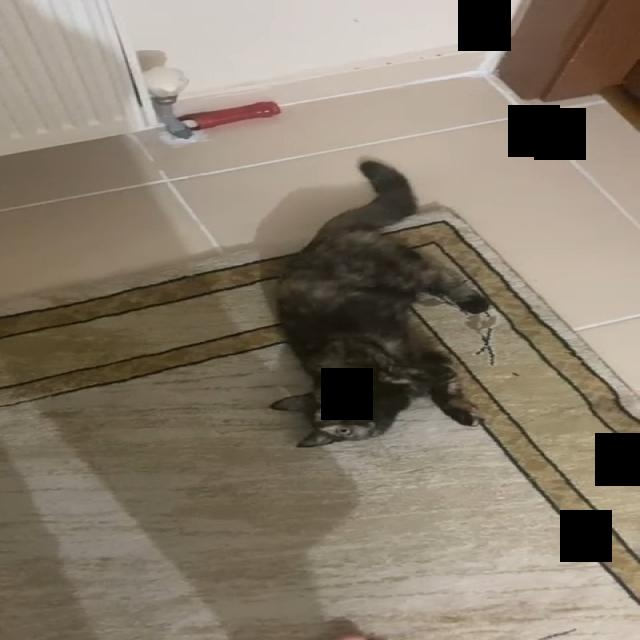authorized: (267, 156, 492, 448)
